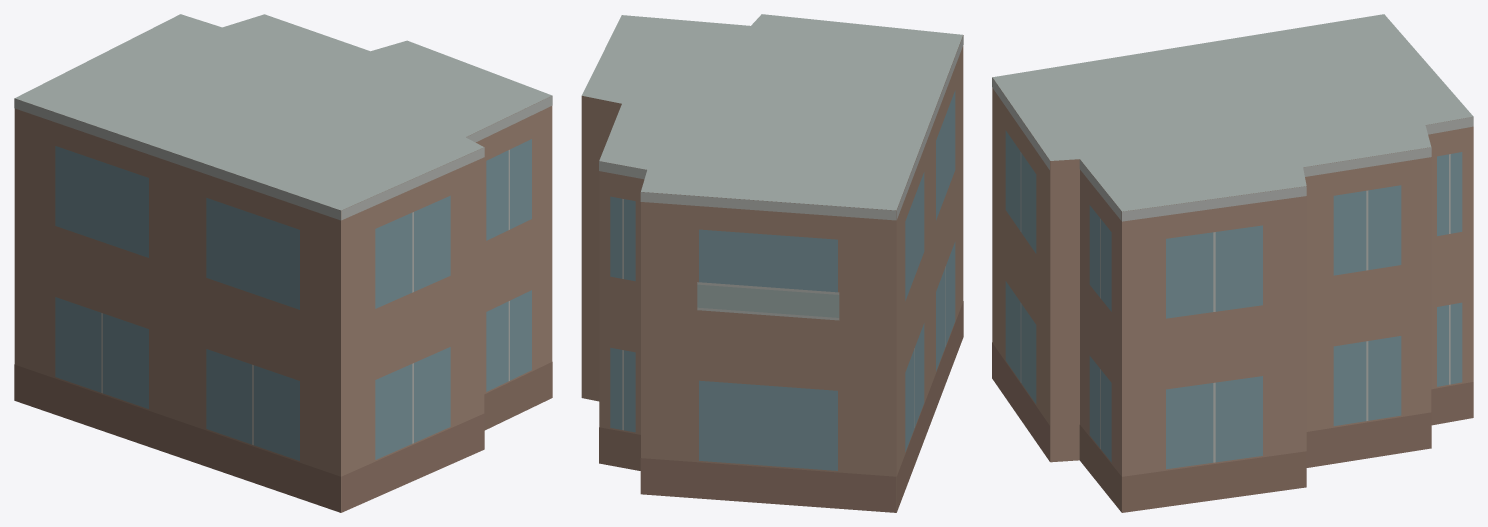
The model's file is survey-upis-32613316.glb.
3 renders of one model, left to right at view 1: azimuth 30°, elevation 25°; view 2: azimuth 150°, elevation 25°; view 3: azimuth 270°, elevation 25°, orthographic.
Parts seen in each view (by area): view 1: survey-upis-32613316.tmp; view 2: survey-upis-32613316.tmp; view 3: survey-upis-32613316.tmp.
Boxes of the visible parts, box(x1,y1,x2,y2) form: survey-upis-32613316.tmp: box(14, 14, 552, 512); survey-upis-32613316.tmp: box(581, 14, 963, 512); survey-upis-32613316.tmp: box(992, 14, 1473, 512).
Size of the model in its own units: 10.35 by 7.35 by 10.65.
